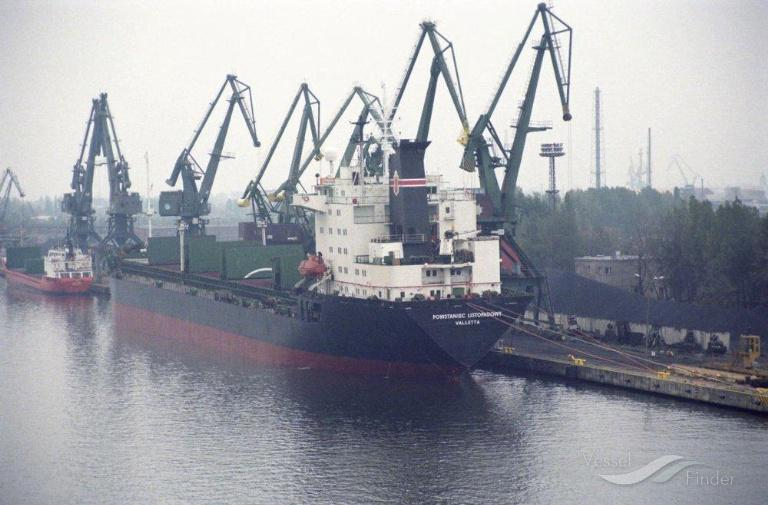OCR: (423, 308, 504, 332)
